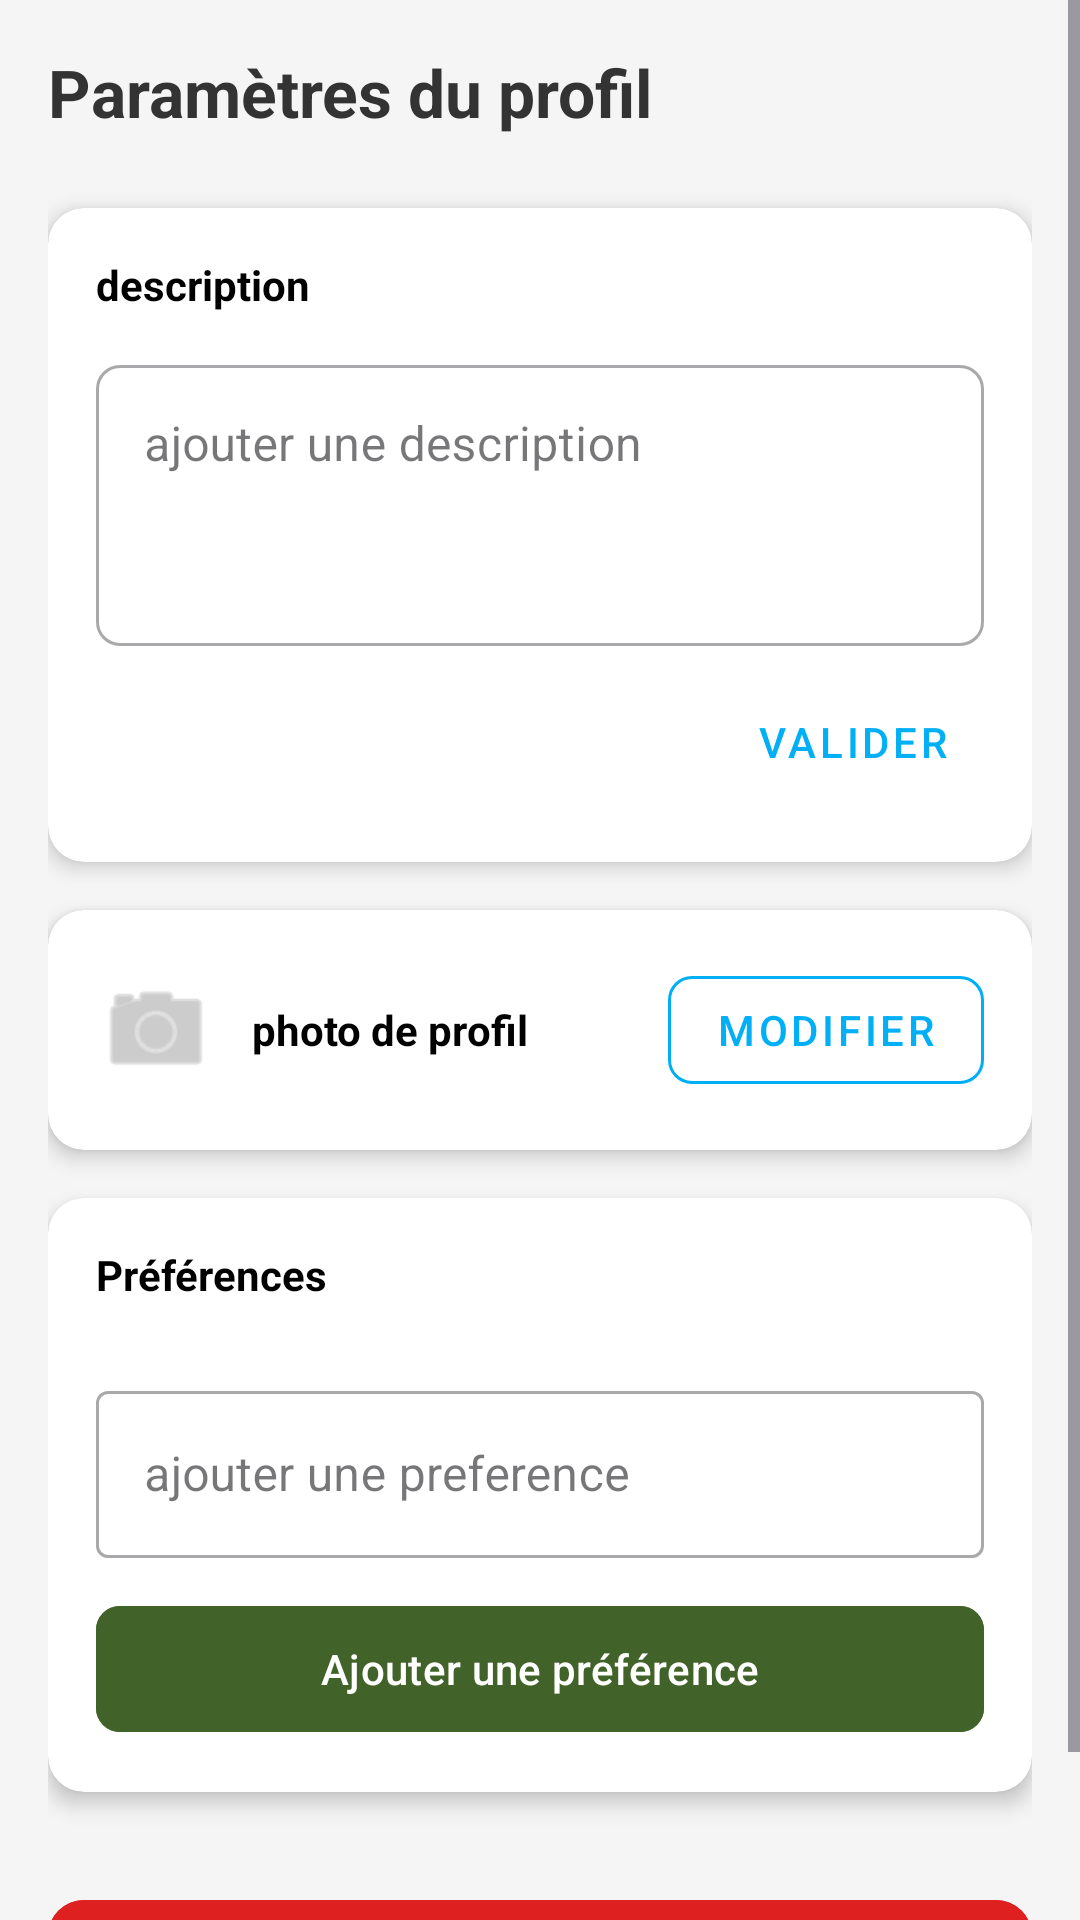

Named icons in this screenshot (1080*1920) and their bounding boxes, (x1, y1, x2, y2):
camera: (110, 992, 201, 1064)
